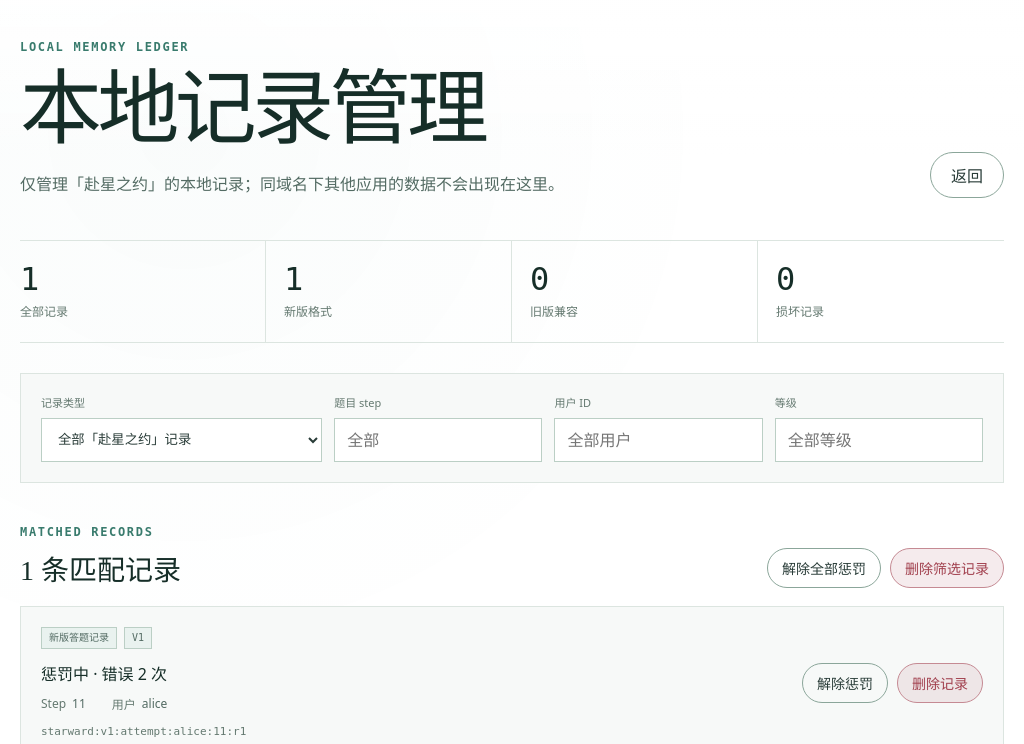
Test: ClearCachePage › requires confirmation before deleting an exact record
Click the button "删除记录" at (940, 683), box [897,663,983,703]
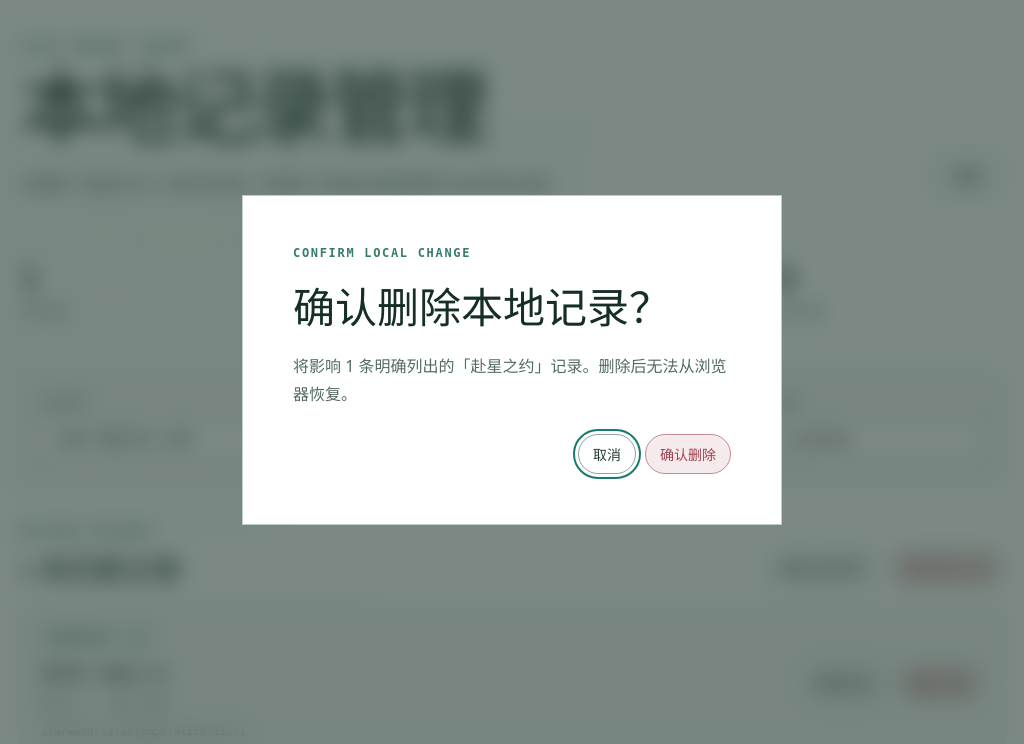
Click the button "确认删除" at (688, 454), box [645,434,731,474]
(page scrolled)
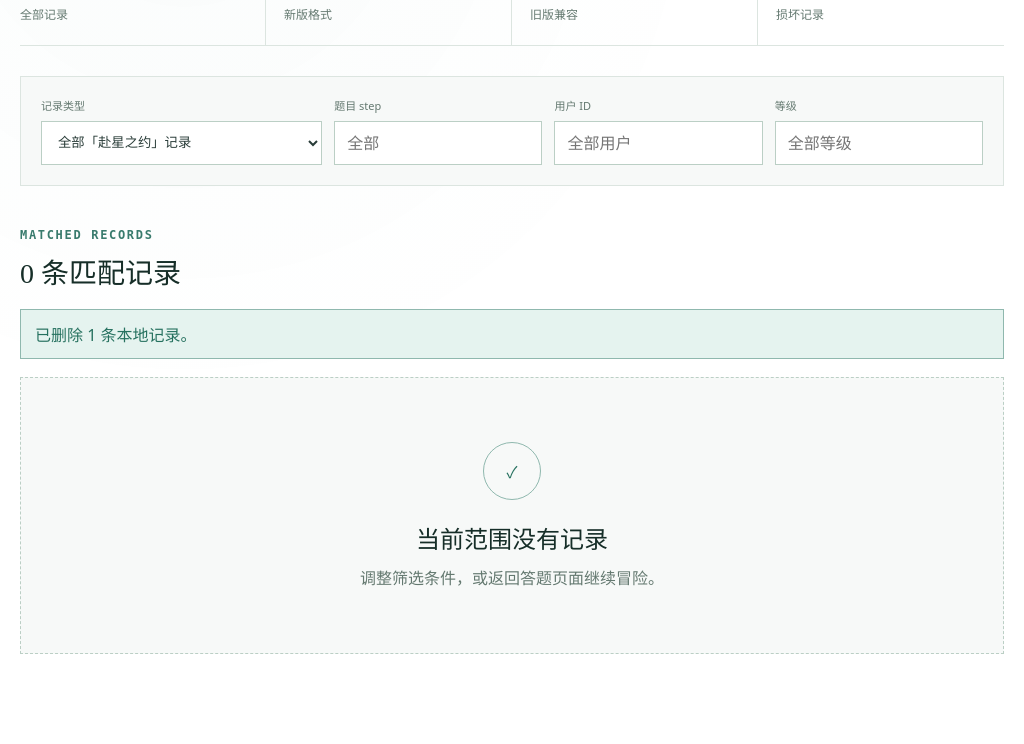
Check: the heading "当前范围没有记录" is shown, box [416,520,608,555]
